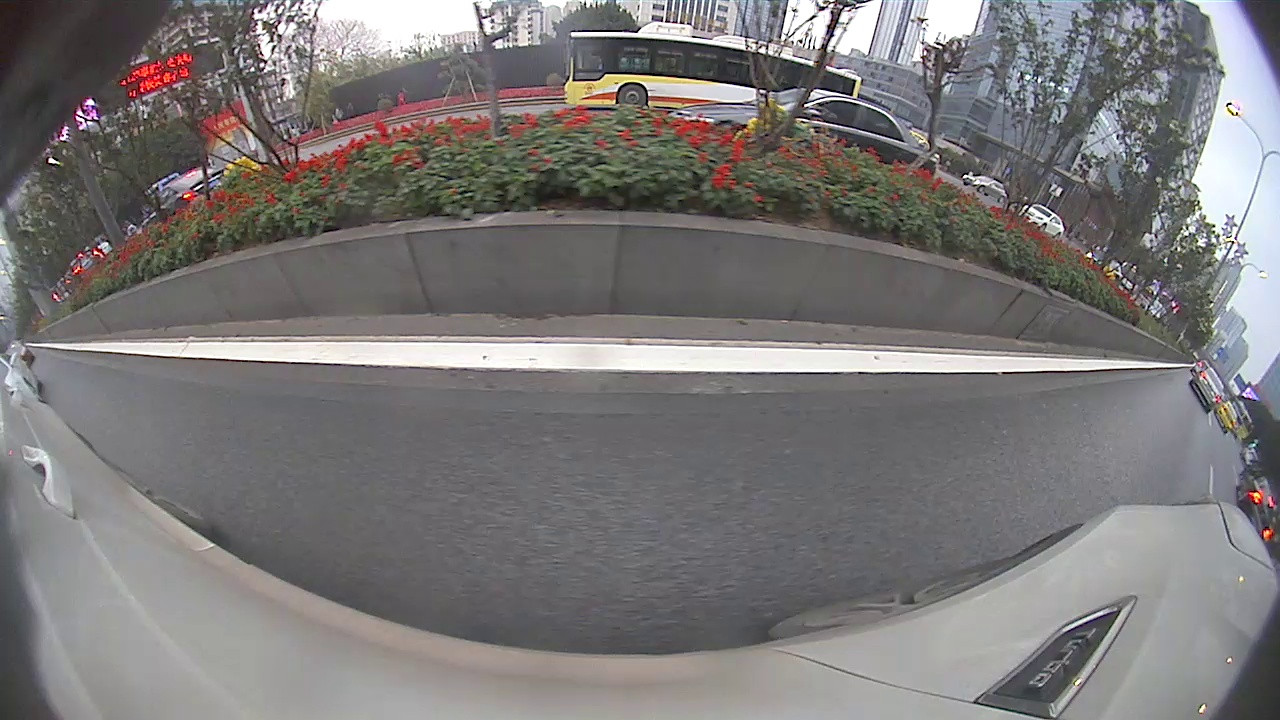bus: (559, 23, 866, 114)
car: (672, 87, 938, 178)
front: (615, 82, 651, 111)
